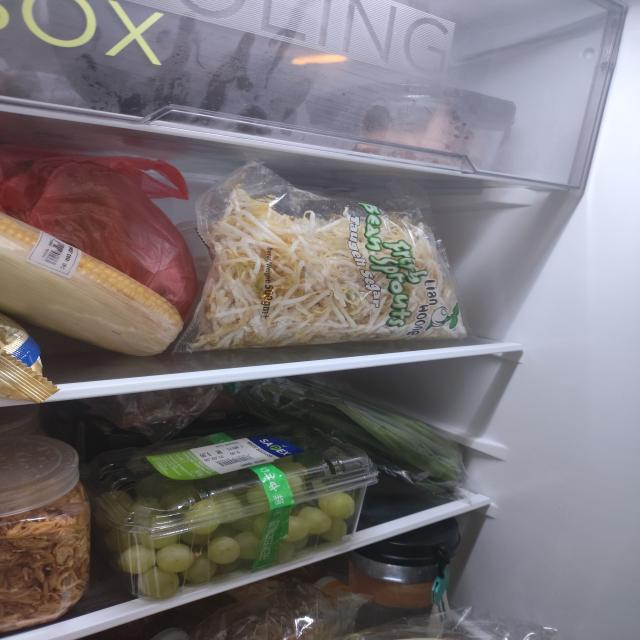bean_sprouts: (185, 182, 467, 354)
corn: (0, 212, 185, 357)
grape: (92, 453, 357, 598)
leafy_greens: (226, 375, 465, 496)
